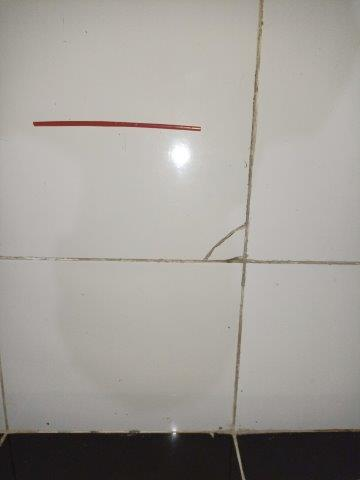sedotan: (33, 120, 201, 132)
